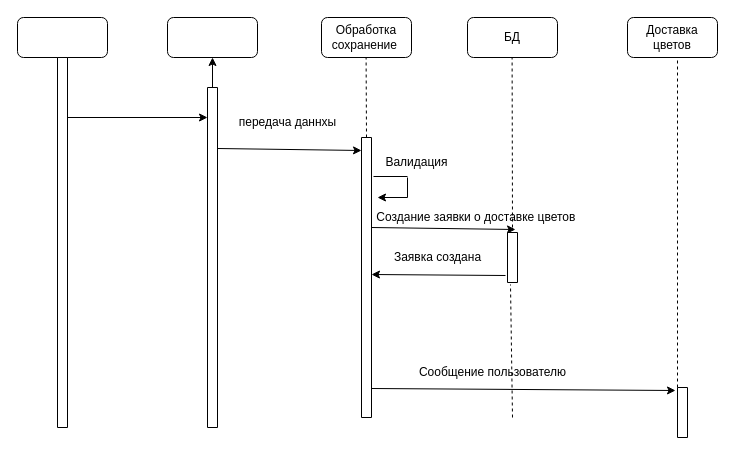
The diagram is 735 pixels wide and 455 high, and some of its shapes have lost their labels. The shapes that lost their labels are listed below. From the top down, each one's centre as x and y in pixels, then its label:
At (x=62, y=37): "Пользователь".
At (x=212, y=37): "Форма регисрации".
